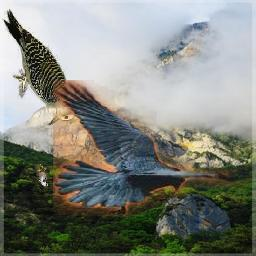Crow: (54, 80, 255, 216)
Sparrow: (34, 164, 48, 186)
Woodpecker: (3, 9, 80, 125)
